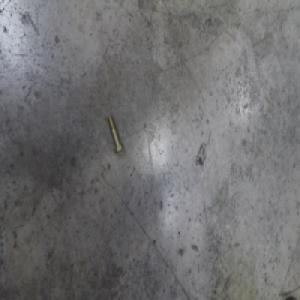Bolt: (106, 114, 123, 155)
